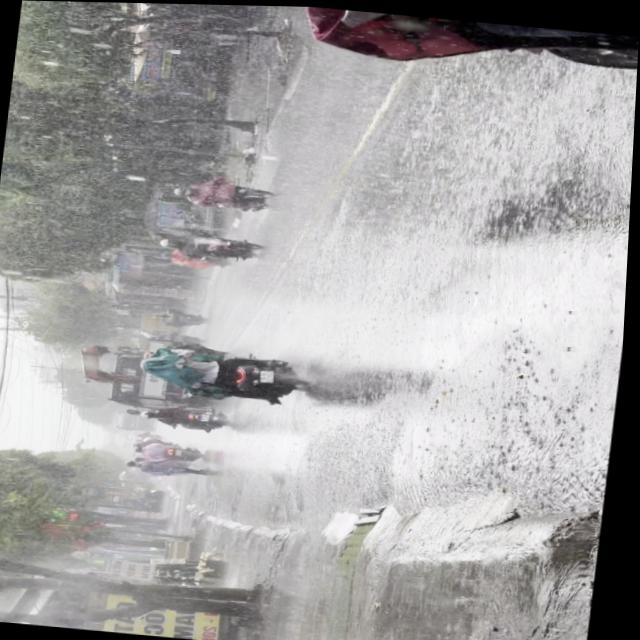licenseplate: (129, 337, 319, 406)
nohelmet: (262, 367, 278, 381)
